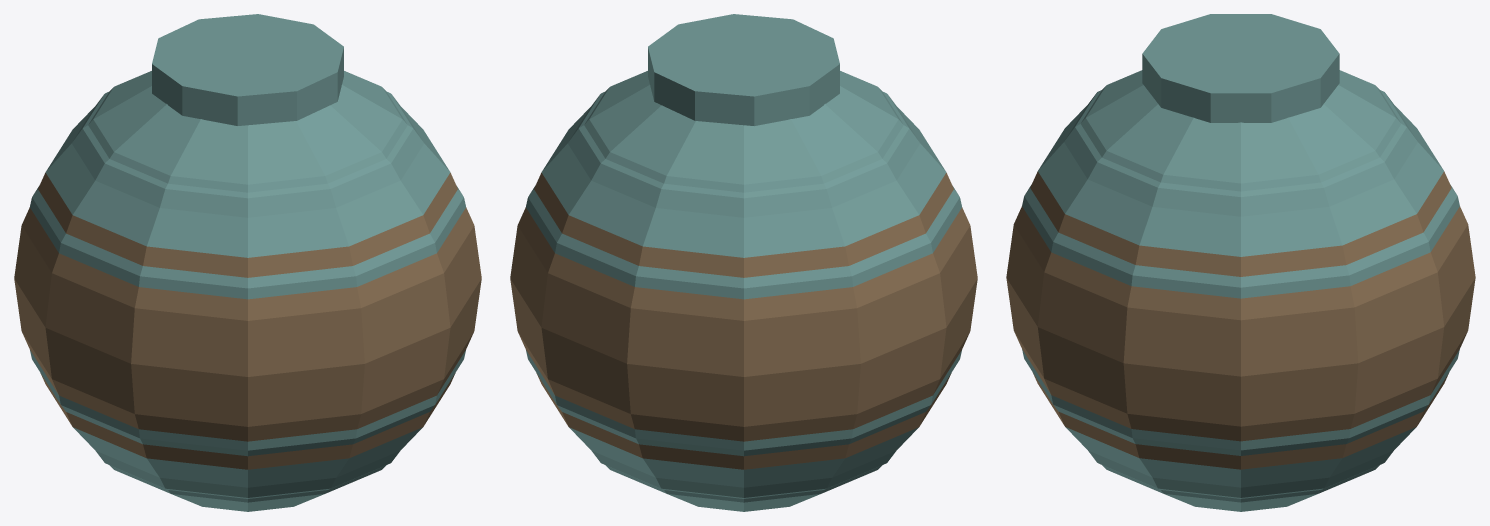
Rendered from bile_biliard.glb.
3 renders of one model, left to right at view 1: azimuth 30°, elevation 25°; view 2: azimuth 150°, elevation 25°; view 3: azimuth 270°, elevation 25°, orthographic.
Parts seen in each view (by area): view 1: Bila9, Bila0, Bila1; view 2: Bila9, Bila0, Bila1; view 3: Bila9, Bila0, Bila1.
Part boxes in pixels (x1,y1,x2,y2): Bila9: (14, 71, 481, 511); Bila0: (30, 92, 465, 498); Bila1: (152, 14, 343, 125); Bila9: (510, 71, 977, 511); Bila0: (526, 92, 961, 498); Bila1: (648, 14, 839, 125); Bila9: (1006, 70, 1475, 511); Bila0: (1022, 90, 1459, 498); Bila1: (1142, 14, 1339, 122).
Size of the model in its own units: 0.0572 by 0.0587 by 0.0572.
